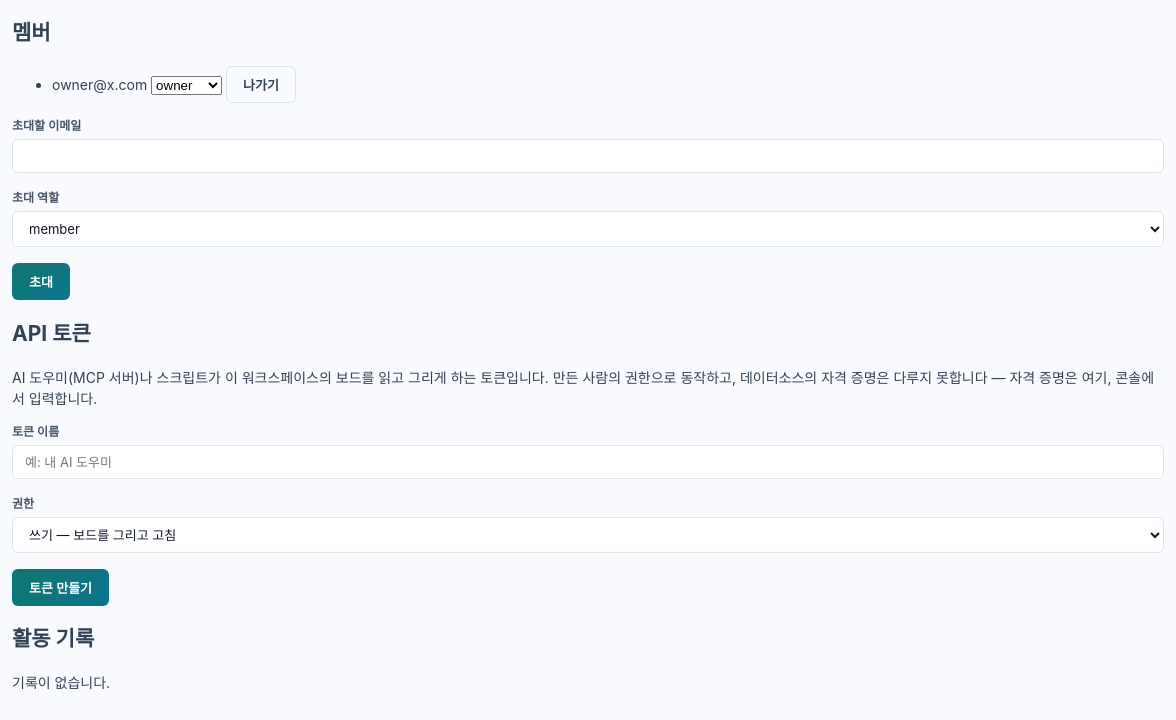
SettingsPage › surfaces an error when creating an invitation fails
Check: the button "초대" is shown, box x1=12 y1=263 x2=70 y2=300
Type "owner@x.com" into the field labelled "초대할 이메일" at (588, 156), box x1=12 y1=139 x2=1164 y2=173
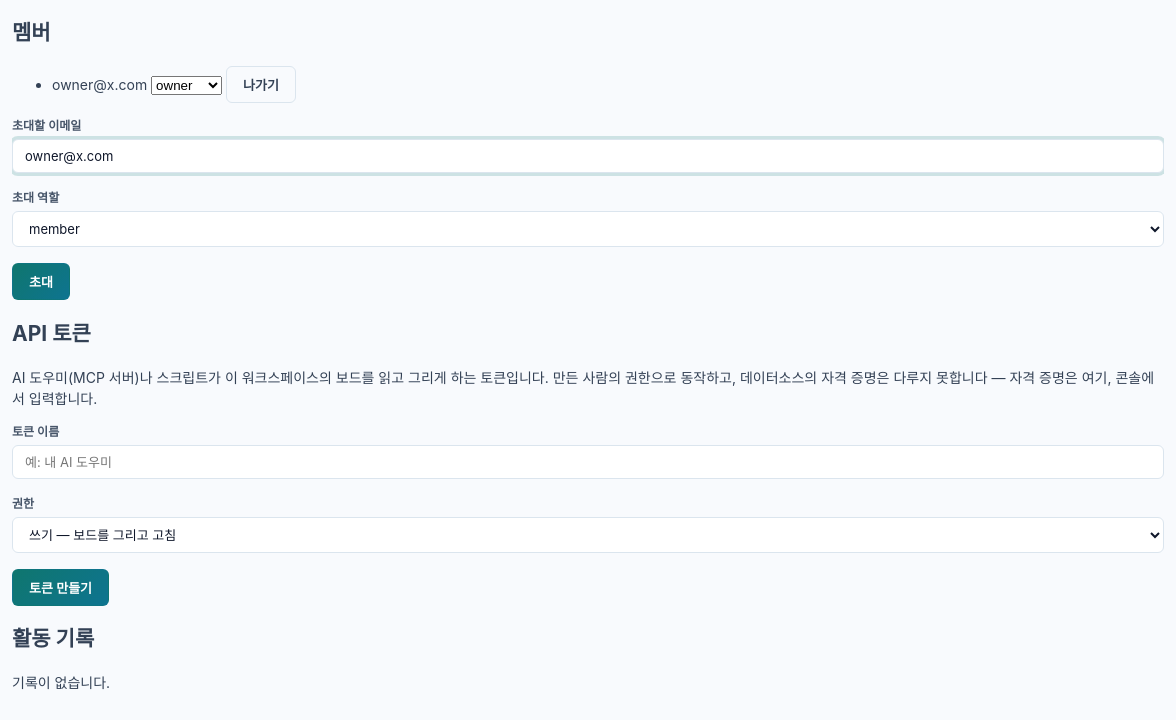
Click the button "초대" at (41, 282), box x1=12 y1=263 x2=70 y2=300
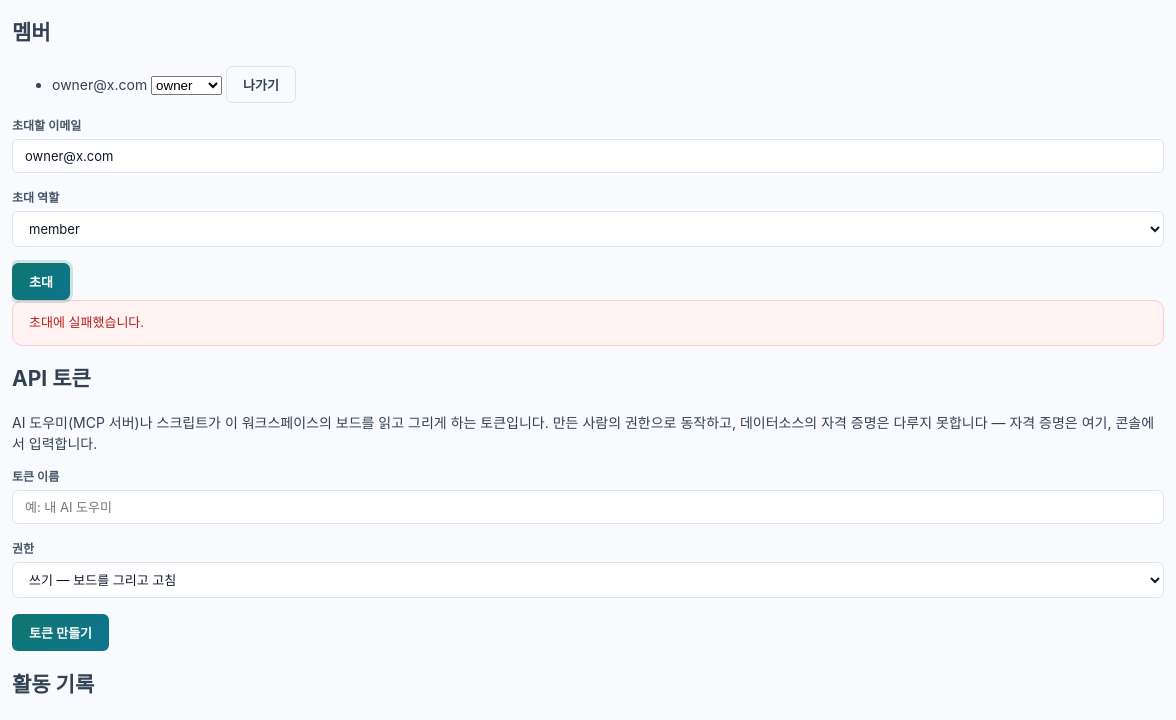
Check: the message reads "초대에 실패했습니다.", box x1=29 y1=314 x2=144 y2=330
